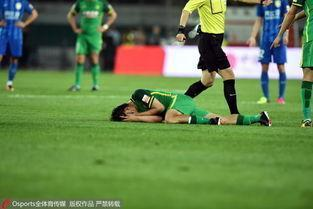Fall-Detected: (108, 81, 267, 126)
